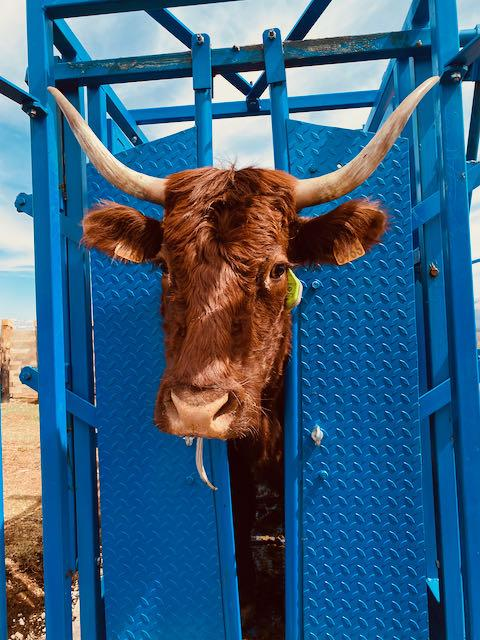muzzles: (146, 379, 263, 448)
